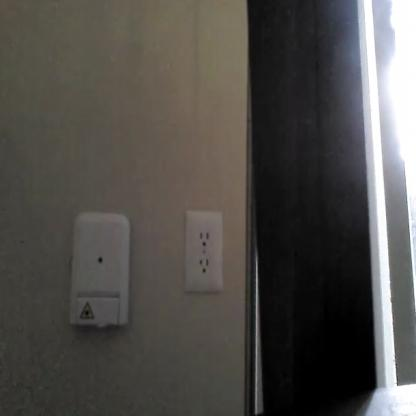OUTLET: (183, 209, 226, 295)
